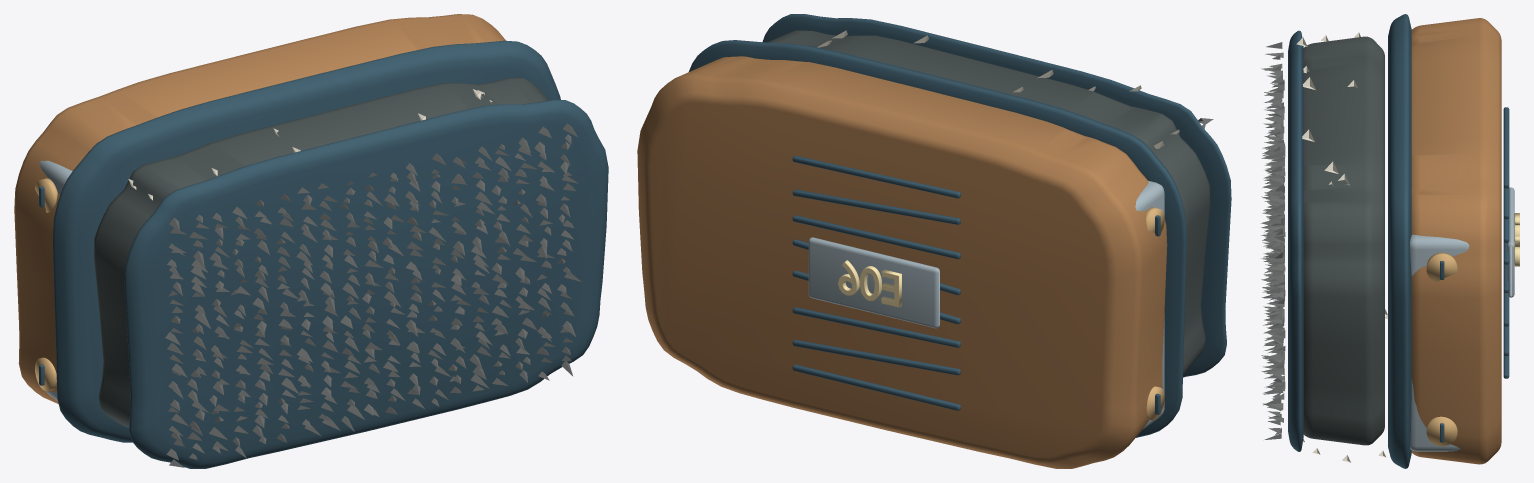
File: E06_Cinematic_Eraser.glb
The picture shows the model from 3 angles, left to right: view 1: azimuth 30°, elevation 25°; view 2: azimuth 150°, elevation 25°; view 3: azimuth 270°, elevation 25°; orthographic projection. The views are drawn at different scales.
Parts seen in each view (by area): view 1: E06 / Blue-black inlaid enamel, Sculpted dust-rough felt teeth, E06 organic curved walnut grip, E06 deeply inset pressed felt, E06 / Satin brass rivet, E06 / Satin blue steel trim; view 2: E06 organic curved walnut grip, E06 / Blue-black inlaid enamel, E06 deeply inset pressed felt, E06 / Satin blue steel trim, E06 stamped sculpted lettering, E06 / Satin brass rivet; view 3: E06 organic curved walnut grip, E06 deeply inset pressed felt, E06 / Blue-black inlaid enamel, Sculpted dust-rough felt teeth, E06 / Satin blue steel trim, E06 / Satin brass rivet, Physical chalk residue, E06 stamped sculpted lettering.
Boxes of the visible parts, x1,y1,x2,y2 form: E06 / Blue-black inlaid enamel: (39,40,608,468); Sculpted dust-rough felt teeth: (165,123,581,467); E06 organic curved walnut grip: (14,14,505,403); E06 deeply inset pressed felt: (94,77,548,427); E06 / Satin brass rivet: (35,178,57,391); E06 / Satin blue steel trim: (39,160,72,400); E06 organic curved walnut grip: (637,56,1167,468); E06 / Blue-black inlaid enamel: (689,14,1231,437); E06 deeply inset pressed felt: (767,30,1209,374); E06 / Satin blue steel trim: (808,180,1164,429); E06 stamped sculpted lettering: (838,260,901,307); E06 / Satin brass rivet: (1146,207,1164,420); E06 organic curved walnut grip: (1411,18,1501,464); E06 deeply inset pressed felt: (1303,36,1384,445); E06 / Blue-black inlaid enamel: (1288,14,1509,468); Sculpted dust-rough felt teeth: (1260,42,1285,439); E06 / Satin blue steel trim: (1410,187,1514,451); E06 / Satin brass rivet: (1426,252,1457,446); Physical chalk residue: (1296,32,1387,462); E06 stamped sculpted lettering: (1514,213,1519,266).
Bounding box in the file's own units: 1.53 × 0.9348 × 0.7392.
